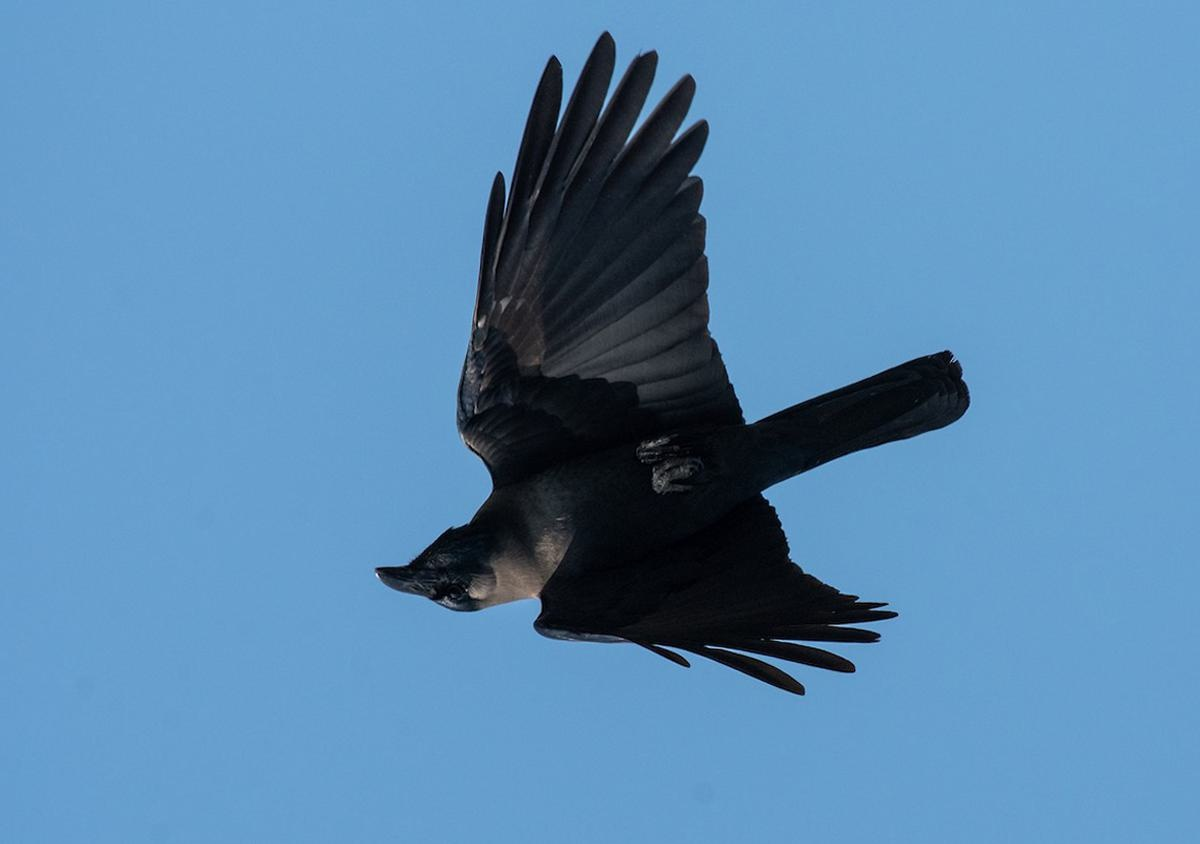crow: (391, 28, 995, 726)
